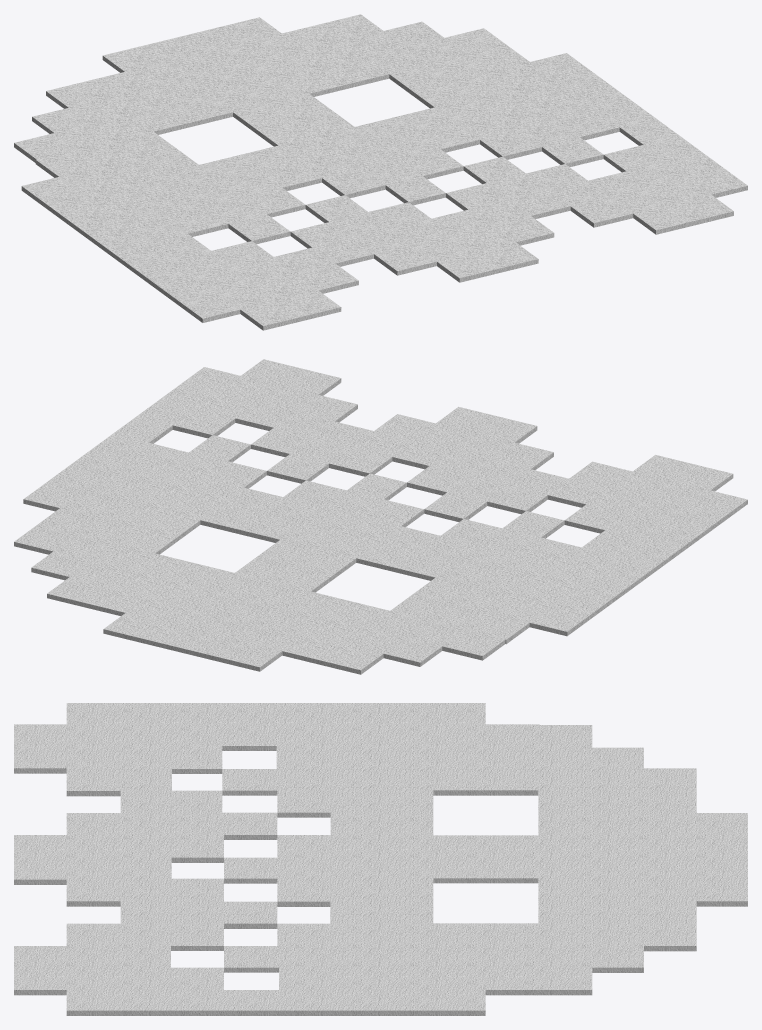
Rendered from fantome 5.fbx.
The picture shows the model from 3 angles, top to bottom: view 1: azimuth 30°, elevation 25°; view 2: azimuth 150°, elevation 25°; view 3: azimuth 270°, elevation 25°; orthographic projection. The views are drawn at different scales.
Visible parts, largest first — view 1: Enduit - Blanc nature; view 2: Enduit - Blanc nature; view 3: Enduit - Blanc nature.
Boxes of the visible parts, x1,y1,x2,y2 form: Enduit - Blanc nature: (14,14,747,330); Enduit - Blanc nature: (14,359,747,674); Enduit - Blanc nature: (14,703,747,1015).
Size of the model in its own units: 762 by 769 by 6.
Materials: 1 (1 with a texture image).
